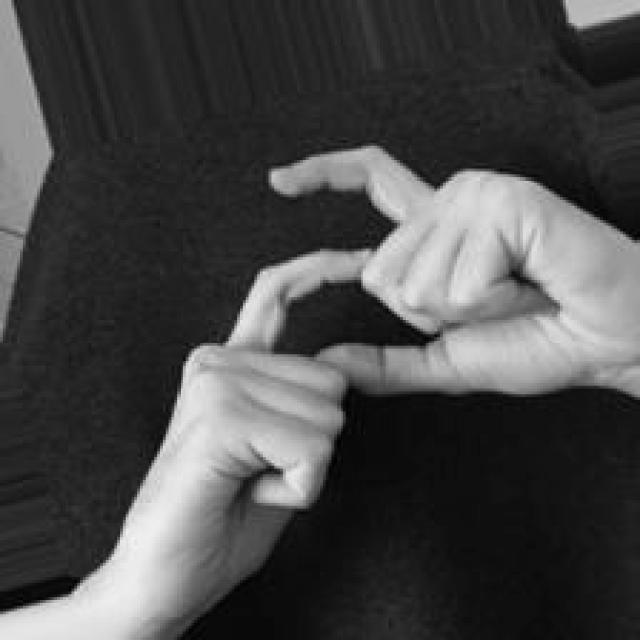G: (114, 145, 639, 640)
